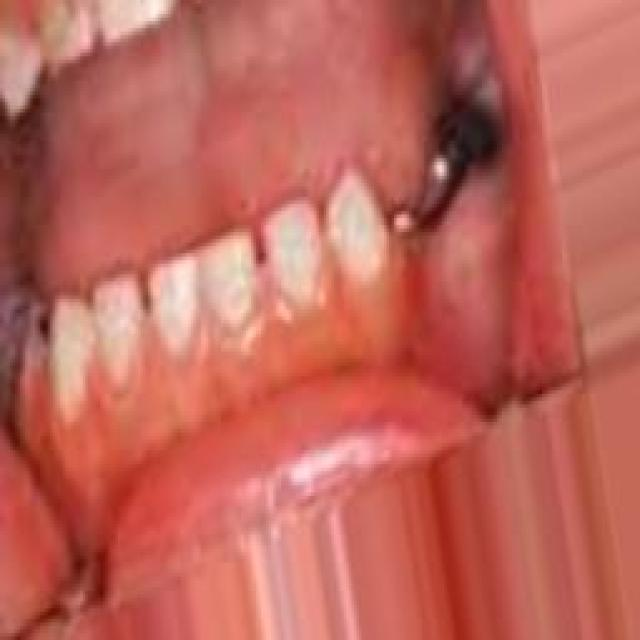caries: (404, 141, 475, 234)
